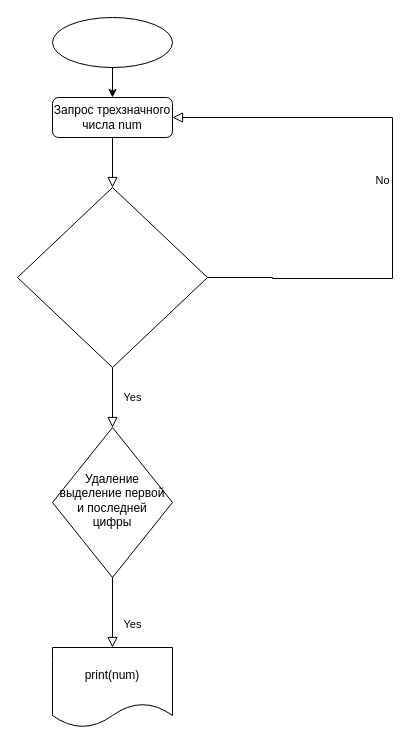
This 420x745 diagram has some shape labels left out. The centre of each missing label's shape, as x and y in pixels:
"Start" goes at pixel 112 42.
"Проверка на трехзначное положительное число с помощью цикла if" goes at pixel 112 277.
